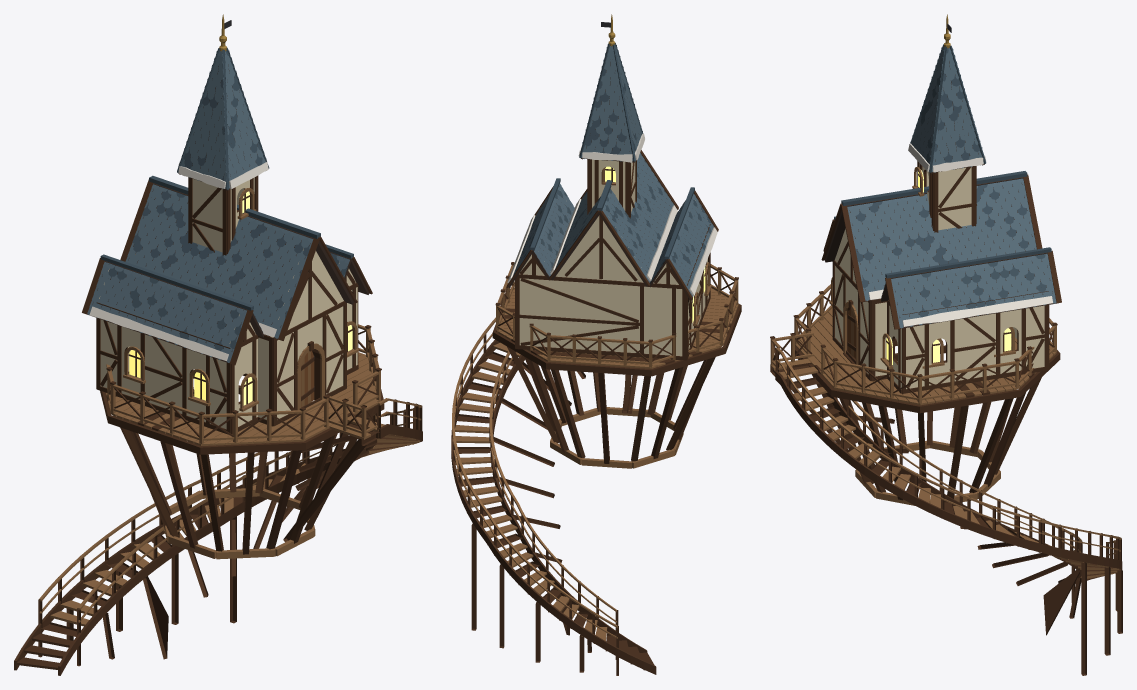
File: ElfoExterior.glb
3 views of the same model, side by side, from view 1: azimuth 30°, elevation 25°; view 2: azimuth 150°, elevation 25°; view 3: azimuth 270°, elevation 25° (orthographic). The views are drawn at different scales.
Parts seen in each view (by area): view 1: ElfoTecho, ElfoParedes, ElfoEscalera, ElfoPlataforma, ElfoBaranda, ElfoVentanas, ElfoPuerta; view 2: ElfoParedes, ElfoTecho, ElfoEscalera, ElfoPlataforma, ElfoBaranda, ElfoVentanas; view 3: ElfoTecho, ElfoEscalera, ElfoParedes, ElfoPlataforma, ElfoBaranda, ElfoVentanas.
Part boxes in pixels (<box>): ElfoTecho: <box>82,14,372,365</box>; ElfoParedes: <box>96,175,358,434</box>; ElfoEscalera: <box>14,396,422,675</box>; ElfoPlataforma: <box>100,352,384,559</box>; ElfoBaranda: <box>106,324,381,443</box>; ElfoVentanas: <box>123,188,358,411</box>; ElfoPuerta: <box>301,351,314,407</box>; ElfoParedes: <box>515,159,710,360</box>; ElfoTecho: <box>506,14,718,300</box>; ElfoEscalera: <box>451,317,656,675</box>; ElfoPlataforma: <box>492,288,741,468</box>; ElfoBaranda: <box>495,262,738,367</box>; ElfoVentanas: <box>602,166,711,325</box>; ElfoTecho: <box>821,14,1061,329</box>; ElfoEscalera: <box>770,332,1122,675</box>; ElfoParedes: <box>832,161,1049,393</box>; ElfoPlataforma: <box>795,308,1060,505</box>; ElfoBaranda: <box>793,284,1057,403</box>; ElfoVentanas: <box>829,166,1015,368</box>.
Size of the model in its own units: 11.31 by 24.75 by 12.71.
